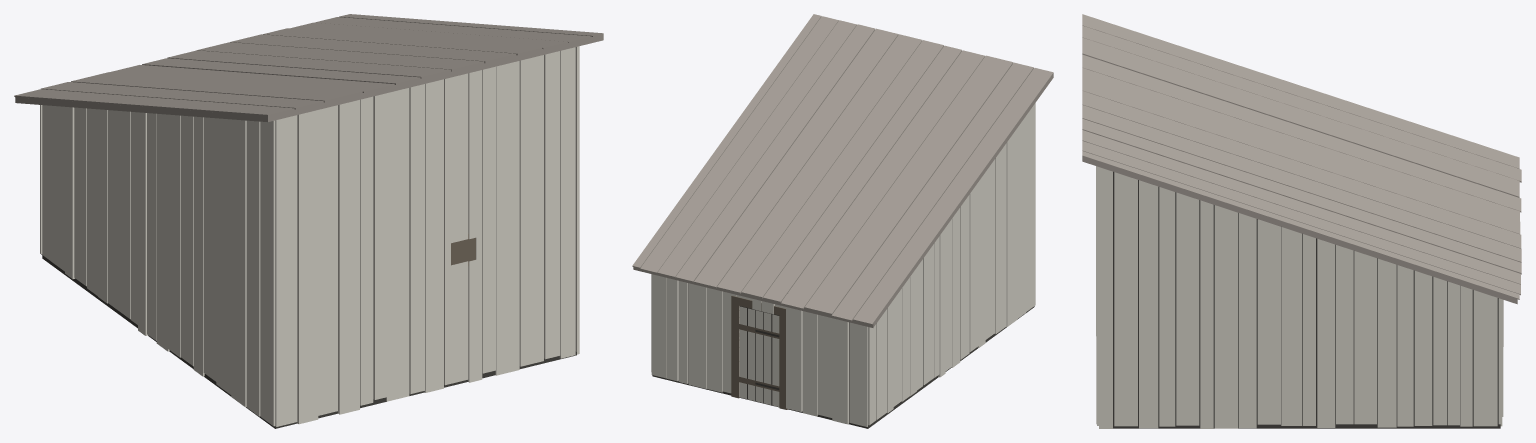
The model's file is recon_1835_blk_south_water_wells_d2_06__inferred_1835.glb.
3 renders of one model, left to right at view 1: azimuth 30°, elevation 25°; view 2: azimuth 150°, elevation 25°; view 3: azimuth 270°, elevation 25°, orthographic. The views are drawn at different scales.
Visible parts, largest first — view 1: recon_1835_blk_south_water_wells_d2_06__inferred_1835; view 2: recon_1835_blk_south_water_wells_d2_06__inferred_1835; view 3: recon_1835_blk_south_water_wells_d2_06__inferred_1835.
Part boxes in pixels (<box>): recon_1835_blk_south_water_wells_d2_06__inferred_1835: <box>14,14,603,428</box>; recon_1835_blk_south_water_wells_d2_06__inferred_1835: <box>632,14,1053,428</box>; recon_1835_blk_south_water_wells_d2_06__inferred_1835: <box>1082,14,1521,428</box>.
Bounding box in the file's own units: 5.09 × 4.72 × 6.69.
